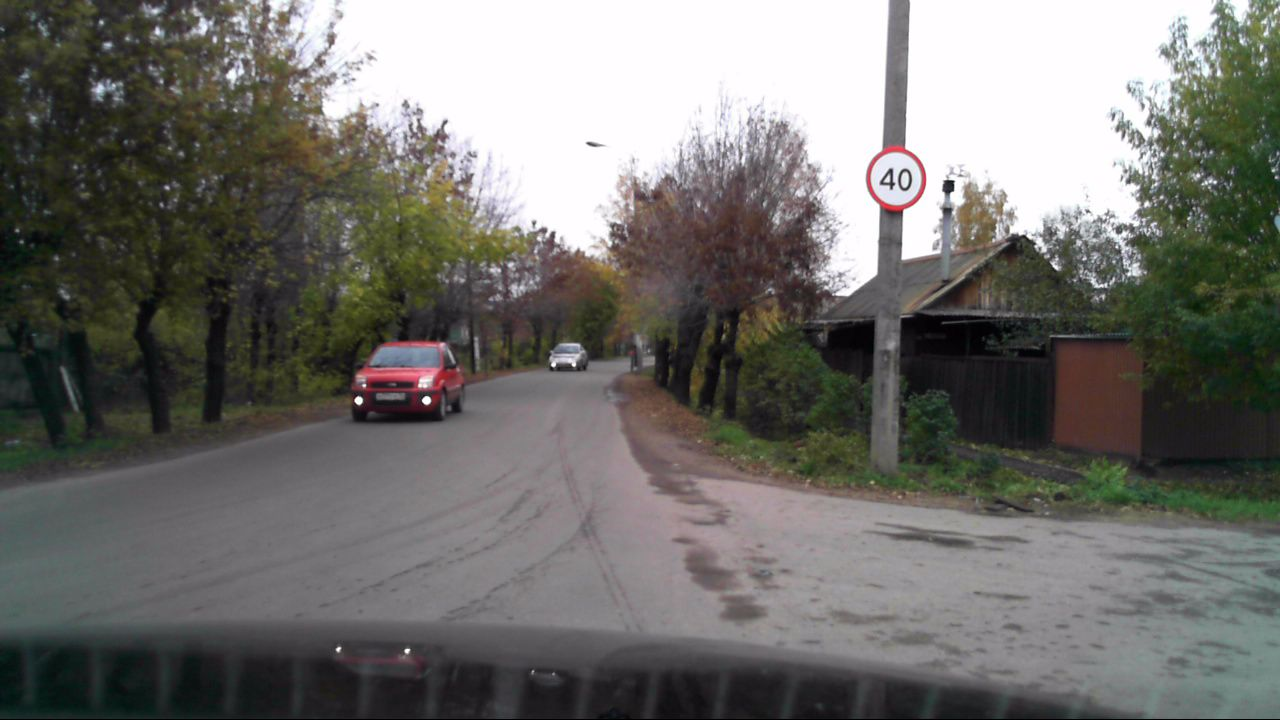speed_warning_40: (864, 145, 929, 211)
